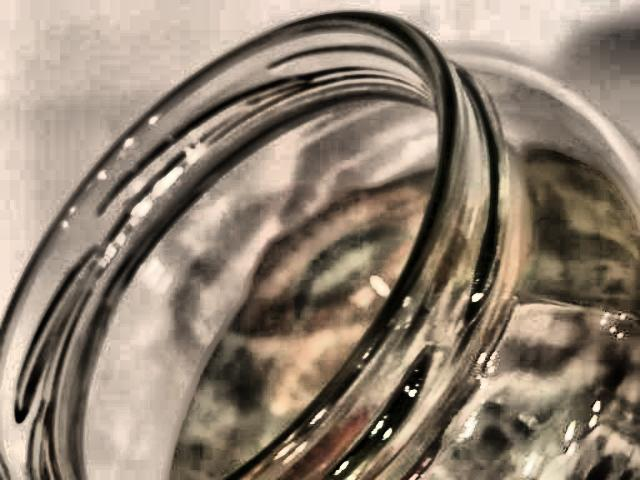Almennt: (0, 9, 640, 480)
